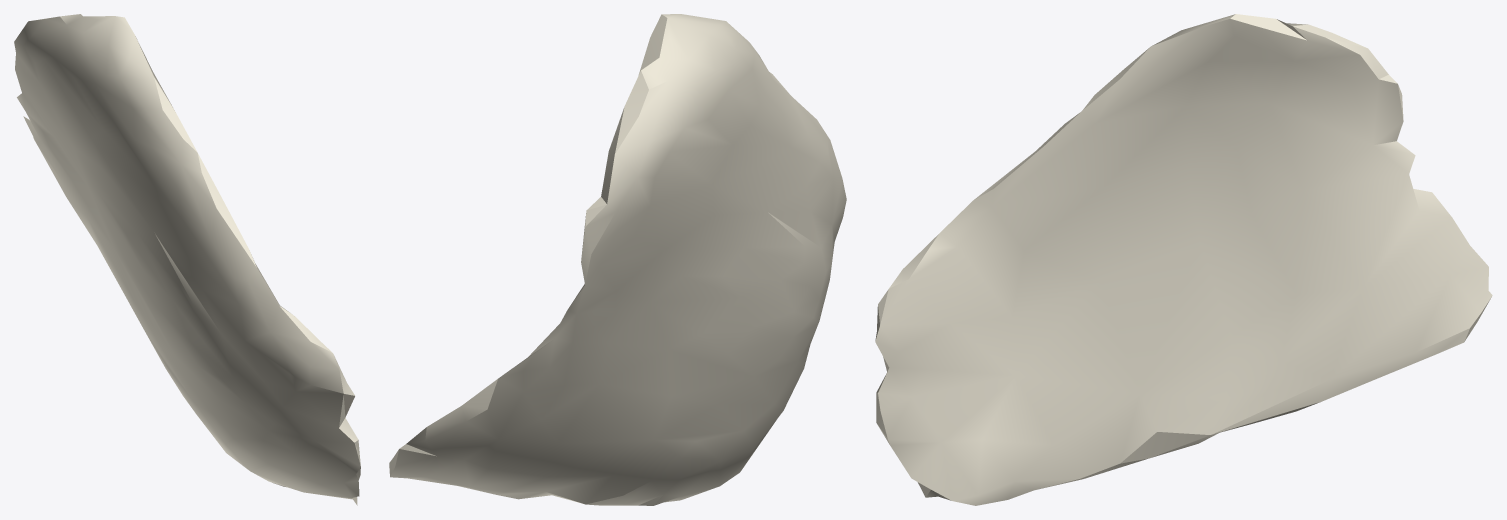
File: fma321700-l_mm1459.glb
The picture shows the model from 3 angles, left to right: view 1: azimuth 30°, elevation 25°; view 2: azimuth 150°, elevation 25°; view 3: azimuth 270°, elevation 25°; orthographic projection. The views are drawn at different scales.
Parts seen in each view (by area): view 1: FMA321700-L_MM1459; view 2: FMA321700-L_MM1459; view 3: FMA321700-L_MM1459.
Boxes of the visible parts, x1,y1,x2,y2 form: FMA321700-L_MM1459: (14, 14, 360, 505); FMA321700-L_MM1459: (389, 14, 846, 505); FMA321700-L_MM1459: (875, 14, 1492, 505).
Bounding box in the file's own units: 0.00193 × 0.00544 × 0.00687.
